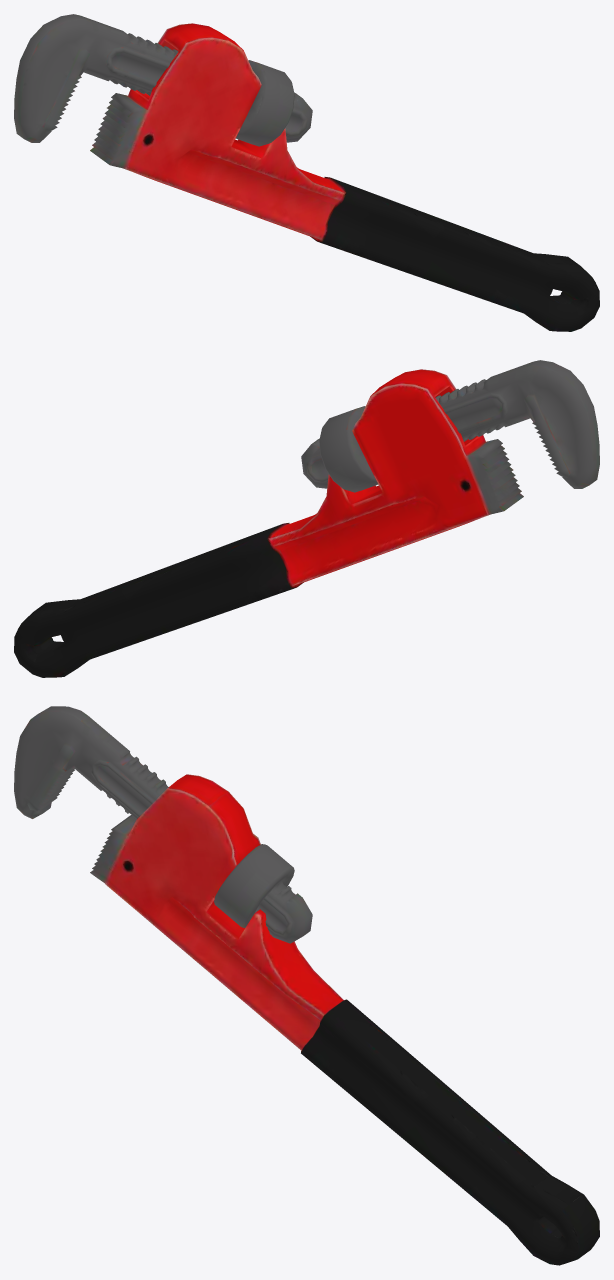
Rendered from servis_mobitel.glb.
3 renders of one model, top to bottom at view 1: azimuth 30°, elevation 25°; view 2: azimuth 150°, elevation 25°; view 3: azimuth 330°, elevation 25°, orthographic.
Parts seen in each view (by area): view 1: servis; view 2: servis; view 3: servis.
Part boxes in pixels (box(x1,y1,x2,y2)): servis: box(14, 14, 599, 331); servis: box(14, 360, 599, 677); servis: box(14, 706, 599, 1265).
Bounding box in the file's own units: 0.6475 × 0.4623 × 0.0785.
Materials: 1 (1 with a texture image).
